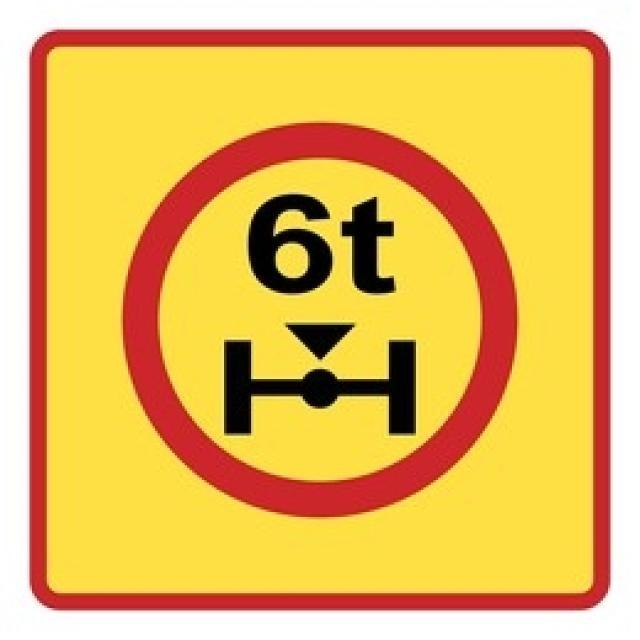axle load limit: (116, 115, 525, 523)
